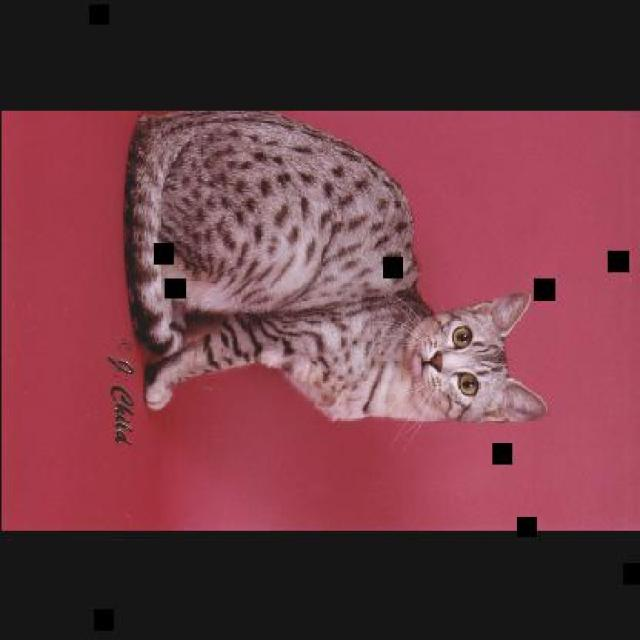unauthorized: (122, 109, 548, 440)
